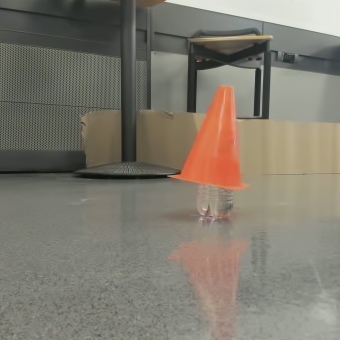Cone: (193, 77, 265, 175)
